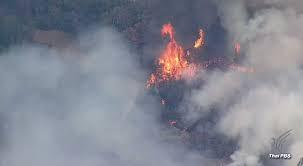fire: (134, 17, 239, 104)
